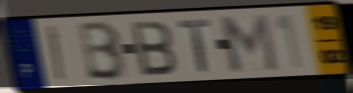1: (275, 14, 303, 70)
B: (78, 19, 129, 82), (128, 19, 178, 78)
I: (45, 23, 67, 82)
M: (216, 12, 281, 74)
T: (176, 18, 212, 74)
